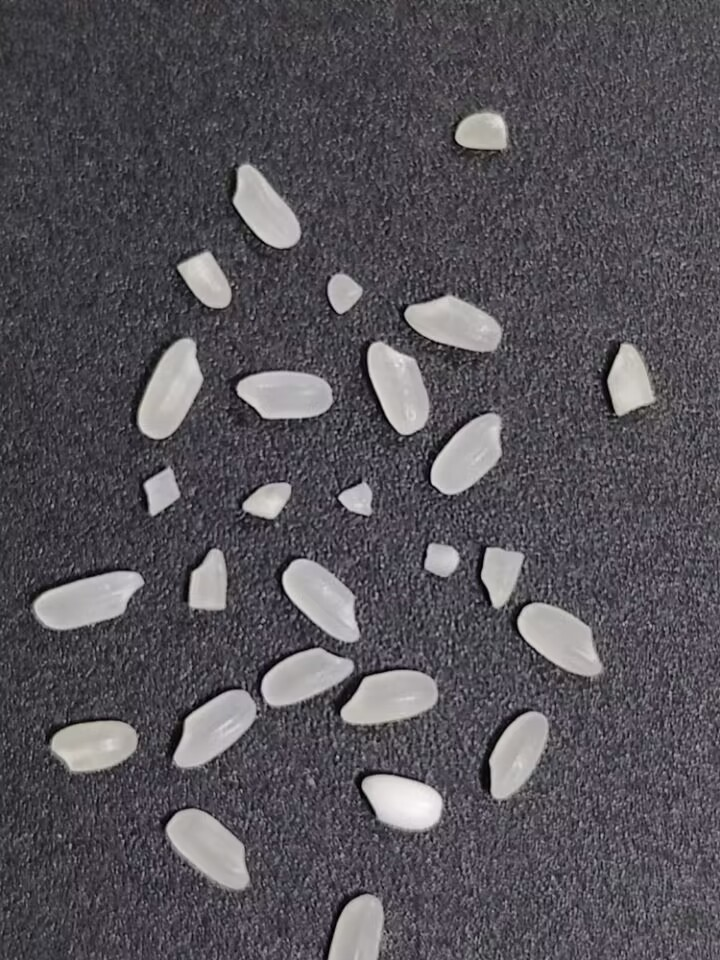broken: (171, 252, 235, 312), (606, 341, 657, 416), (184, 542, 233, 620), (330, 893, 385, 959), (476, 545, 528, 613), (237, 474, 300, 522), (137, 463, 187, 519), (452, 108, 515, 150), (417, 538, 465, 584), (334, 478, 378, 522), (324, 269, 366, 315)
rice: (157, 801, 258, 893), (132, 333, 210, 442), (278, 553, 366, 648), (31, 566, 145, 637), (361, 336, 434, 441), (167, 686, 257, 770), (398, 287, 509, 355), (428, 407, 508, 500), (227, 159, 300, 259), (256, 643, 357, 709), (516, 602, 603, 678), (233, 368, 341, 427), (43, 713, 142, 776), (340, 669, 439, 726), (488, 710, 550, 800), (361, 773, 442, 830)
